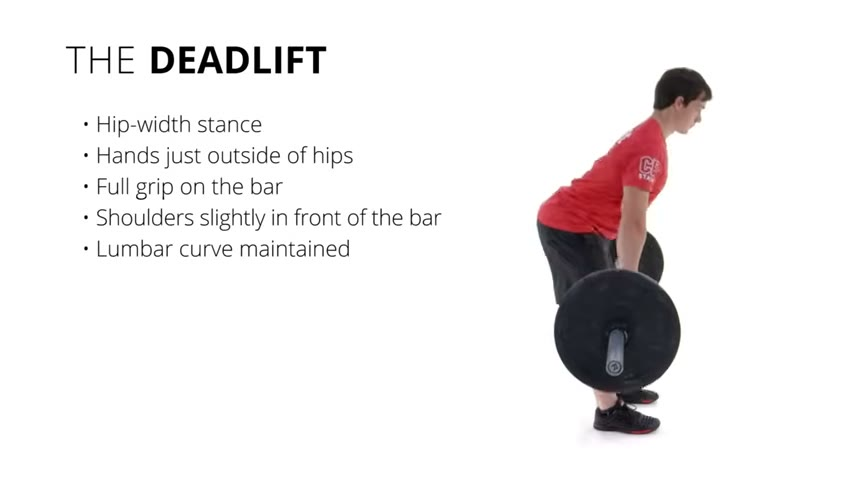barbell_plate_side: (554, 266, 591, 397), (651, 260, 684, 396)
